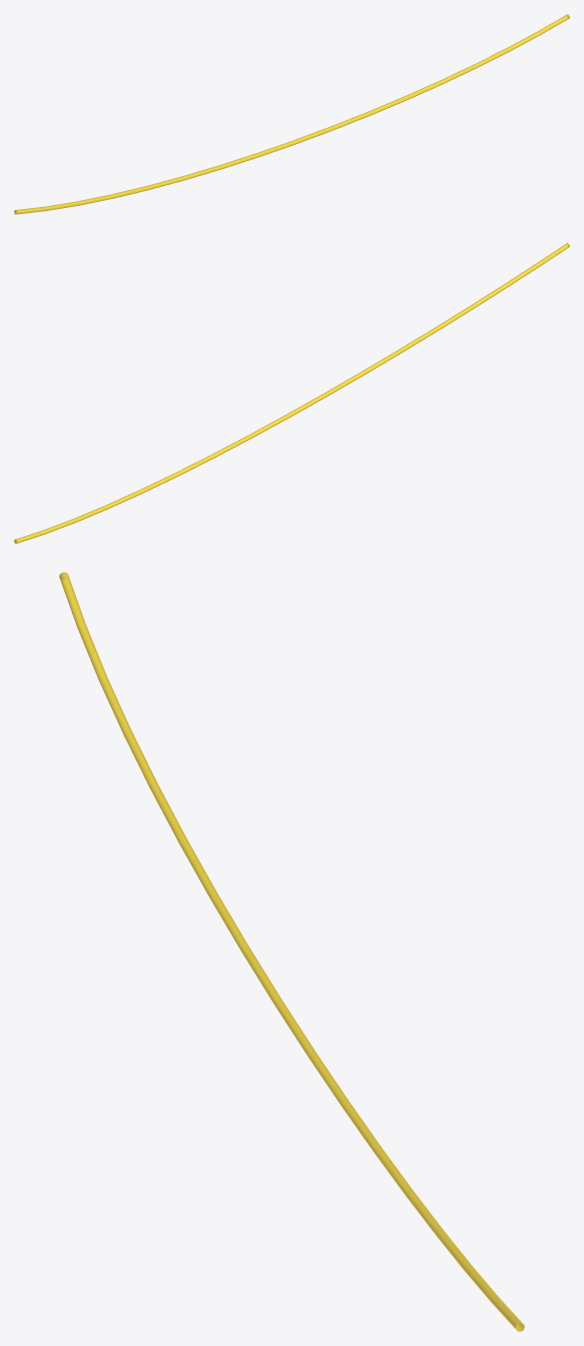
Rendered from Event_84804159_track_21.fbx.
The picture shows the model from 3 angles, top to bottom: view 1: azimuth 30°, elevation 25°; view 2: azimuth 210°, elevation 25°; view 3: azimuth 270°, elevation 25°; orthographic projection. The views are drawn at different scales.
Visible parts, largest first — view 1: Model; view 2: Model; view 3: Model.
Boxes of the visible parts, x1,y1,x2,y2 form: Model: (14,14,569,214); Model: (14,243,569,543); Model: (59,572,524,1331).
Size of the model in its own units: 6.56 by 0.5847 by 1.98.
